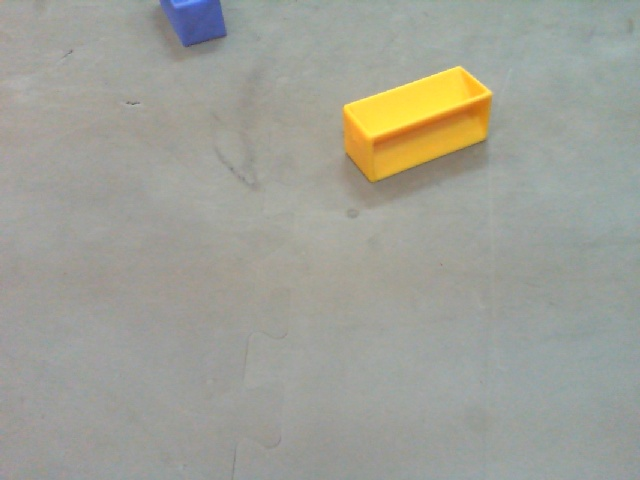BlueSample: (159, 1, 229, 49)
YellowSample: (331, 63, 496, 183)
